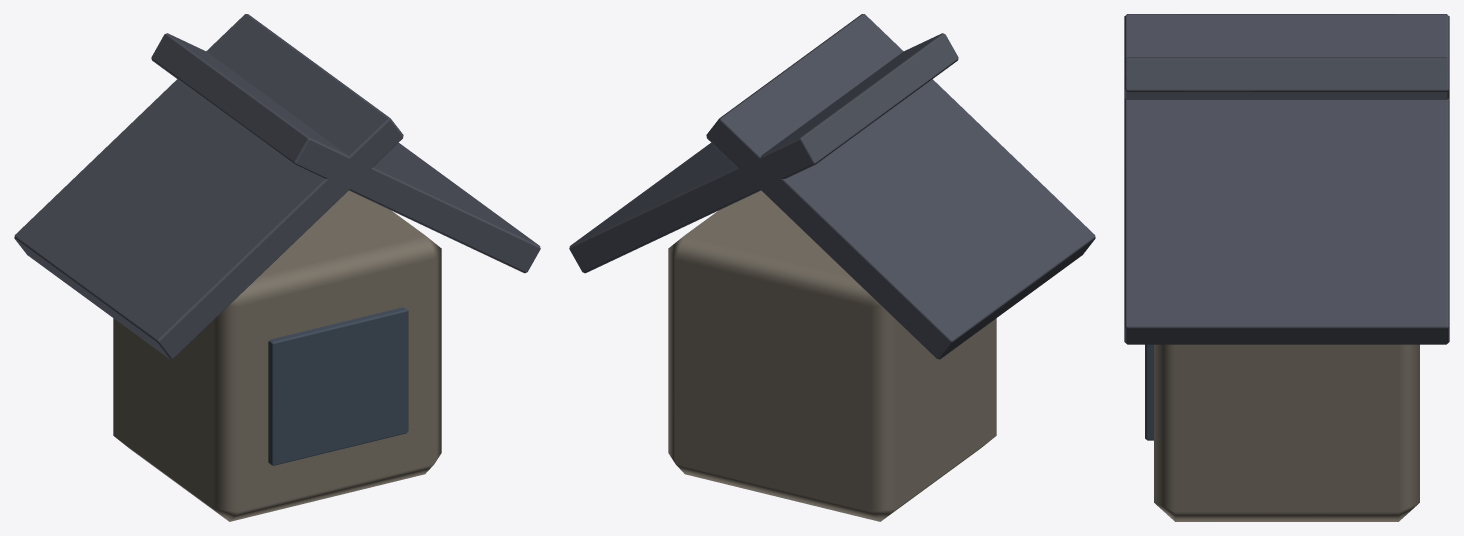
File: stone-halls-roof-dormer.713b347a.glb
The picture shows the model from 3 angles, left to right: view 1: azimuth 30°, elevation 25°; view 2: azimuth 150°, elevation 25°; view 3: azimuth 270°, elevation 25°; orthographic projection. The views are drawn at different scales.
Visible parts, largest first — view 1: body; view 2: body; view 3: body.
Part boxes in pixels (x1,y1,x2,y2): body: [14, 14, 540, 521]; body: [569, 14, 1095, 521]; body: [1124, 14, 1449, 521].
Bounding box in the file's own units: 0.8402 × 0.8071 × 0.55.
